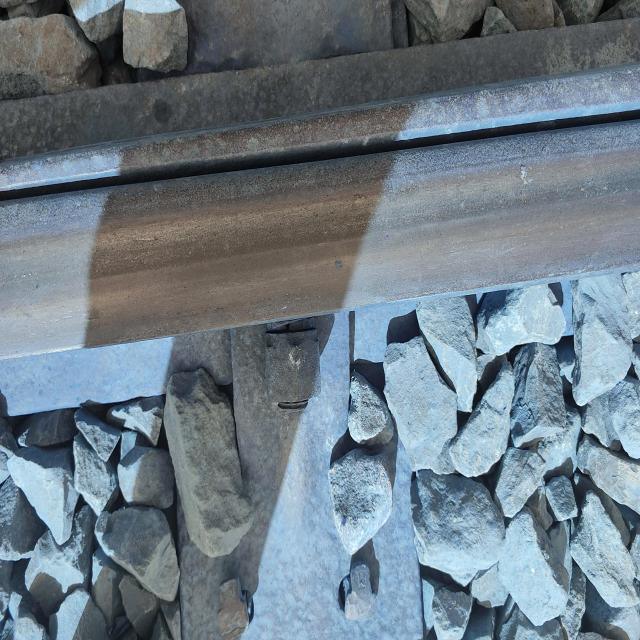Good Fasteners: (234, 323, 356, 436)
